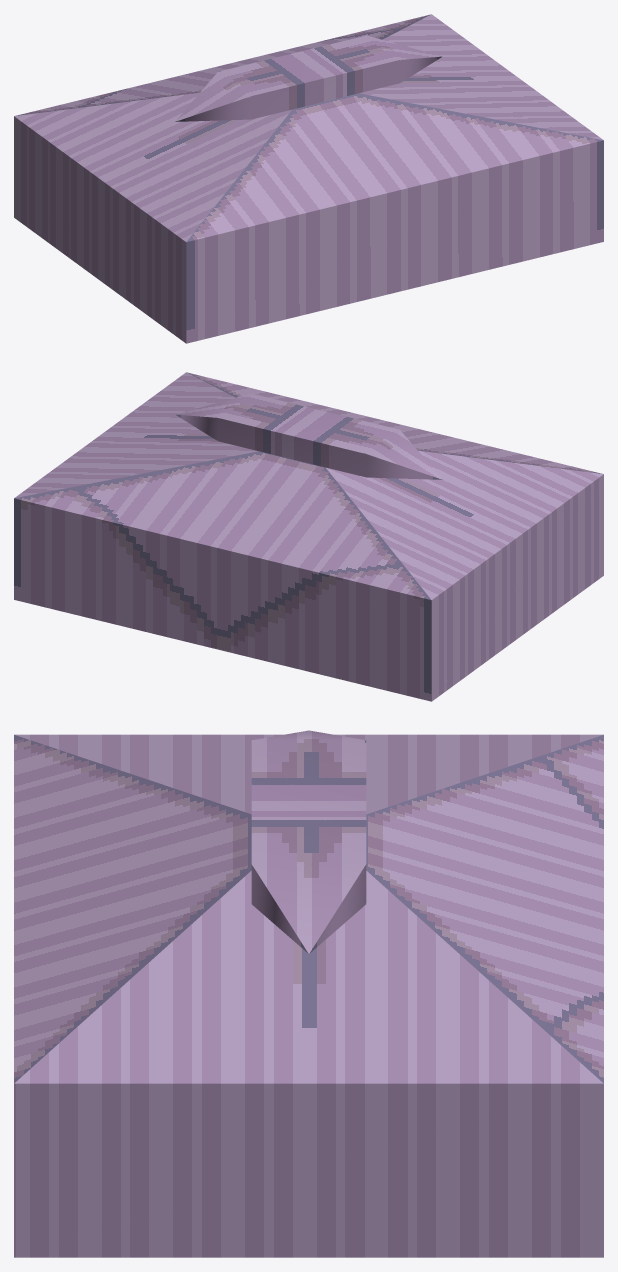
The model's file is 00ec_Bundle.glb.
3 renders of one model, top to bottom at view 1: azimuth 30°, elevation 25°; view 2: azimuth 150°, elevation 25°; view 3: azimuth 270°, elevation 25°, orthographic. The views are drawn at different scales.
Parts seen in each view (by area): view 1: part_0; view 2: part_0; view 3: part_0.
Boxes of the visible parts, x1,y1,x2,y2 form: part_0: [14, 14, 603, 343]; part_0: [14, 372, 603, 701]; part_0: [14, 730, 603, 1257].
Size of the model in its own units: 0.28 by 0.105 by 0.2.
Materials: 1 (1 with a texture image).
